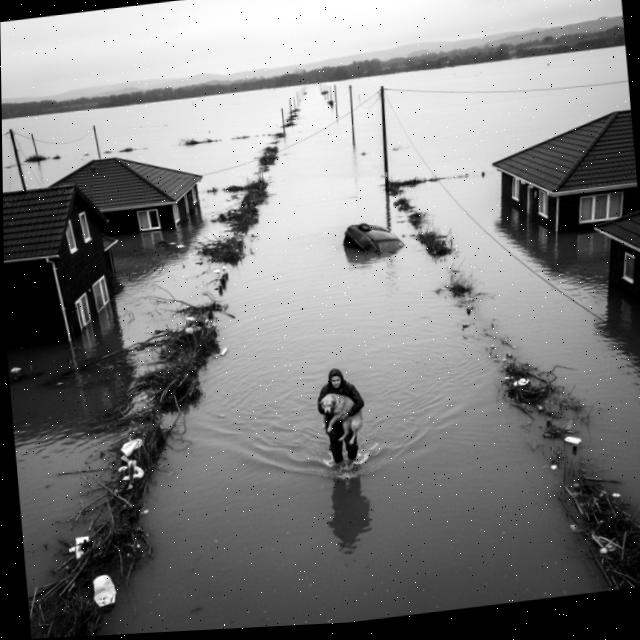civilian: (312, 359, 373, 477)
dog: (317, 385, 367, 451)
